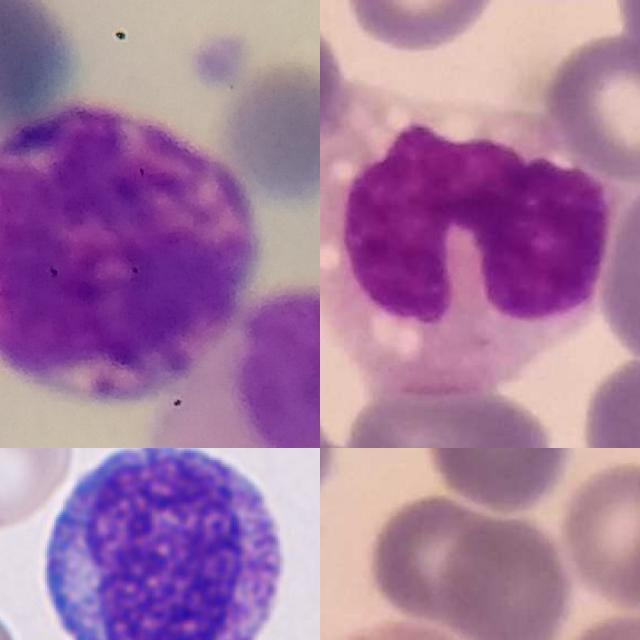Basophil: (0, 101, 258, 398)
Lymphocyte: (31, 448, 297, 640)
Monocyte: (320, 100, 610, 395)
Neutrophil: (155, 289, 320, 448)
RBC: (0, 448, 77, 534)
